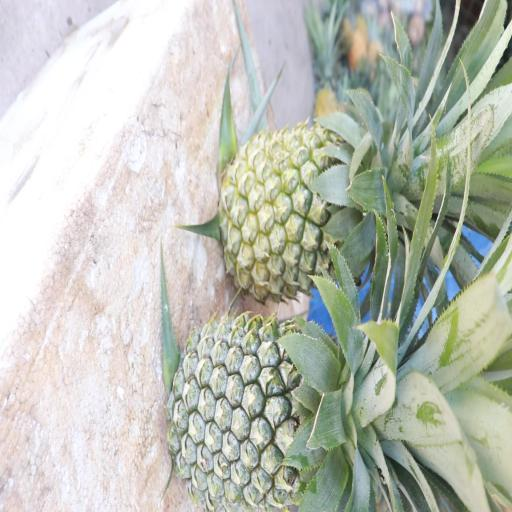Pineapple - v8 v1: (222, 122, 398, 302)
